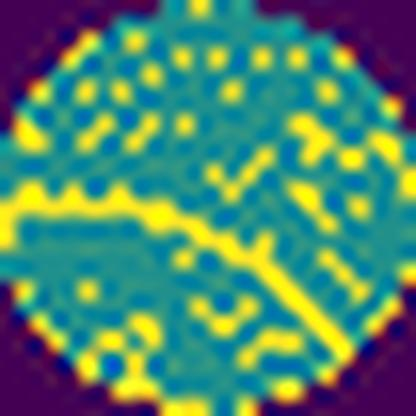Scratch: (0, 179, 355, 368)
